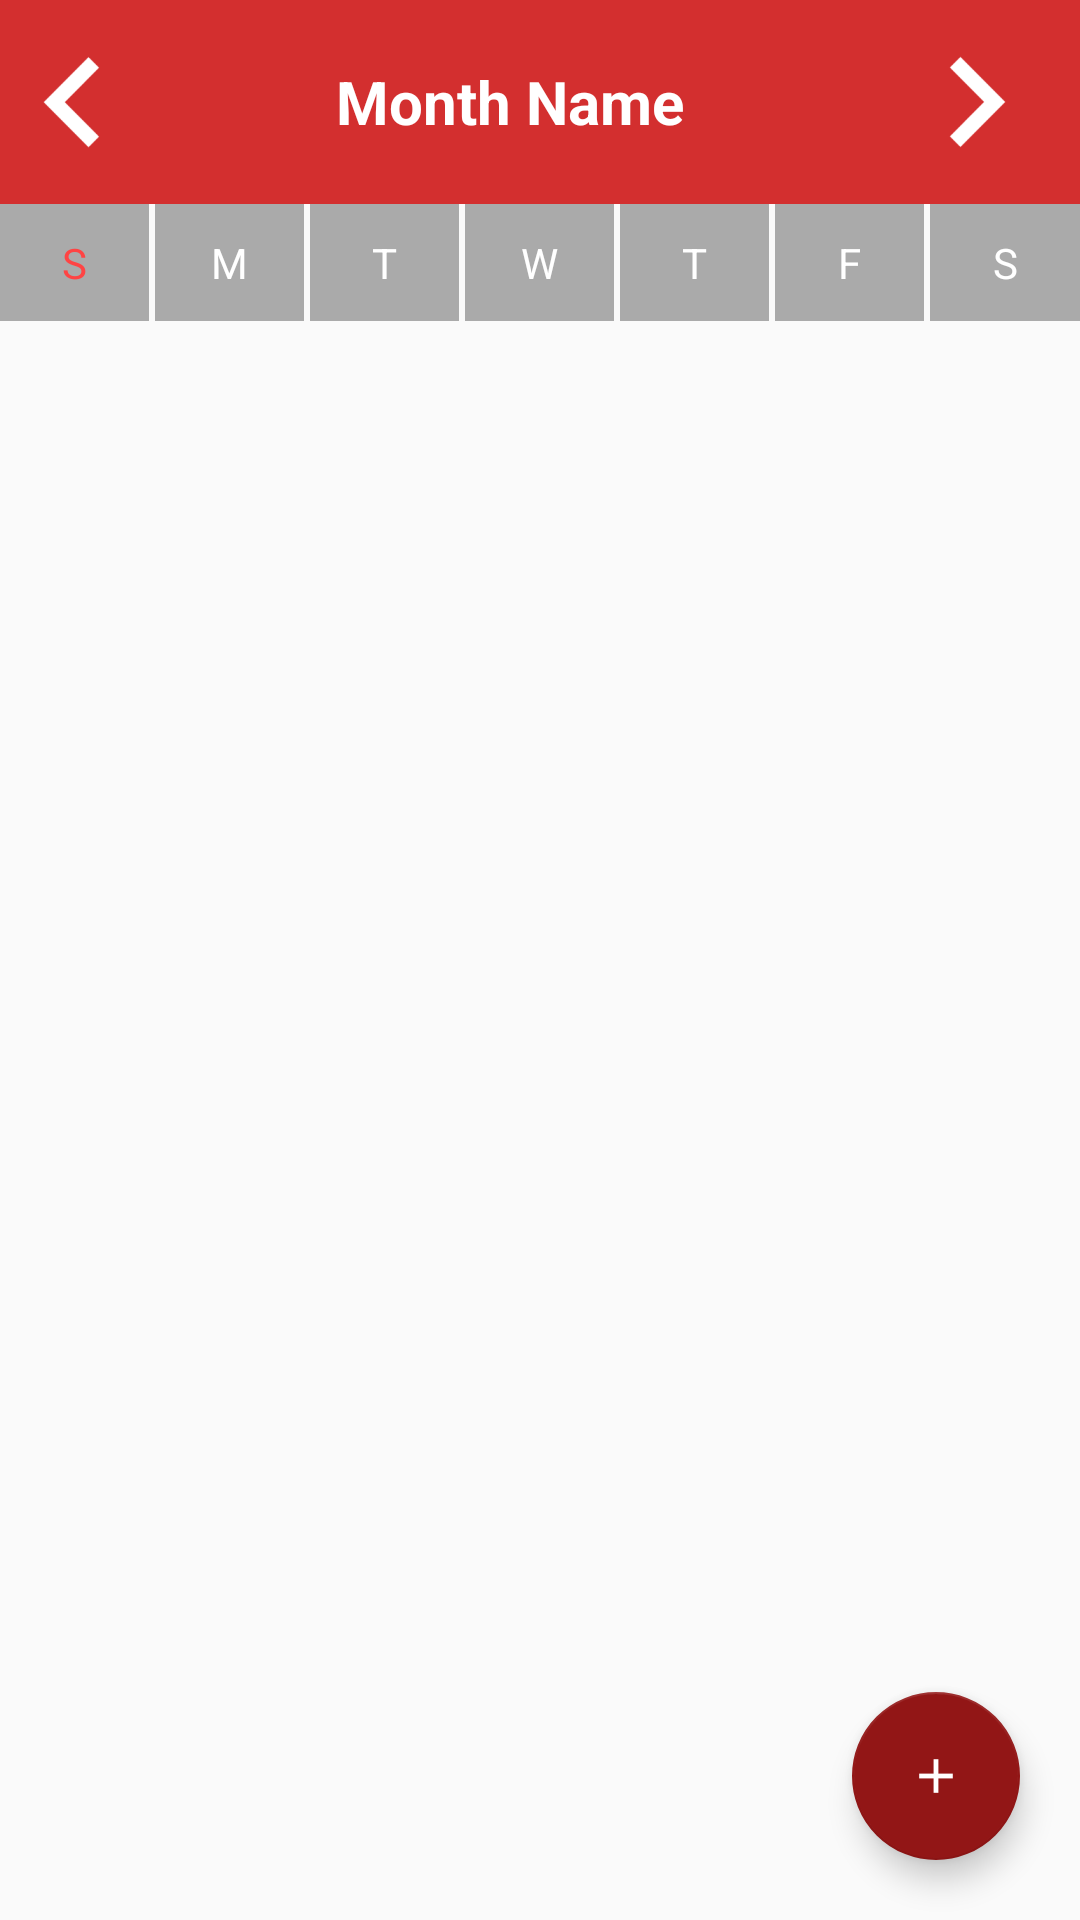

Where icons sit on this 1080 × 1920 app screen, as {"x1": x1, "y1": y1, "x2": x2, "y2": y2}:
add: {"x1": 852, "y1": 1692, "x2": 1020, "y2": 1860}
left: {"x1": 44, "y1": 57, "x2": 99, "y2": 148}
right: {"x1": 950, "y1": 57, "x2": 1005, "y2": 147}
